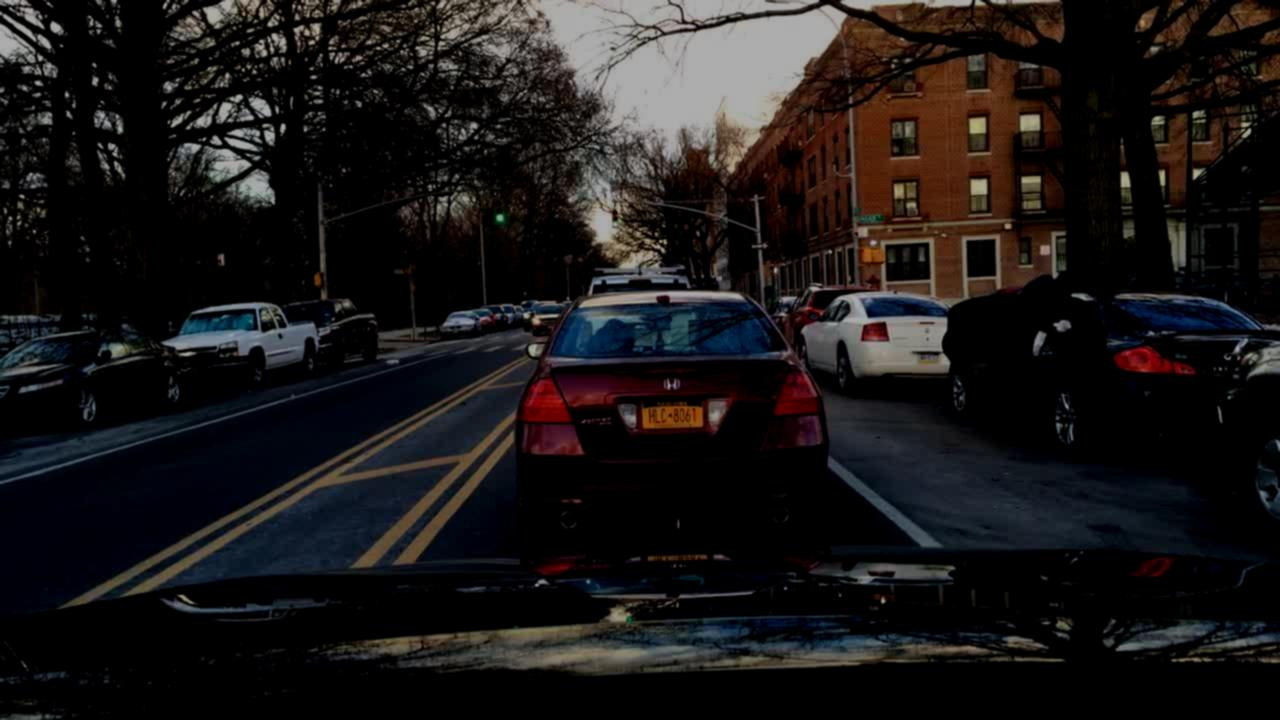Honda: (658, 372, 685, 396)
Infiniti: (1217, 346, 1249, 363)
chevrolet: (171, 347, 202, 363)
